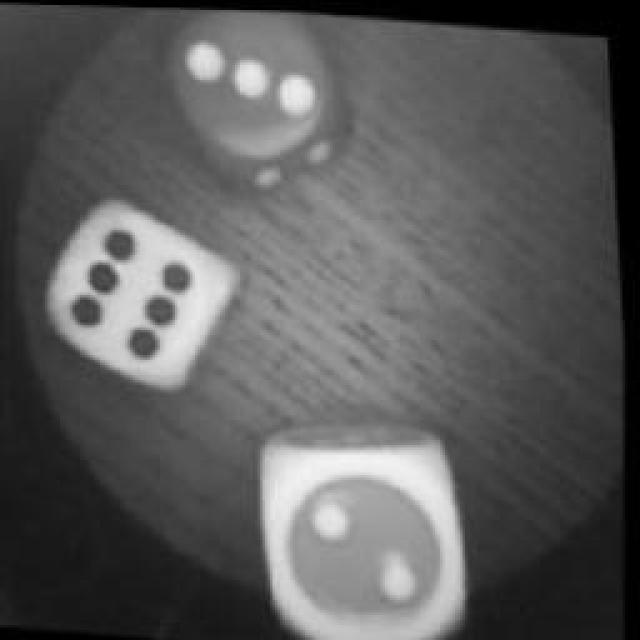dice_2: (250, 430, 475, 640)
dice_3: (152, 5, 366, 185)
dice_6: (38, 186, 248, 392)
